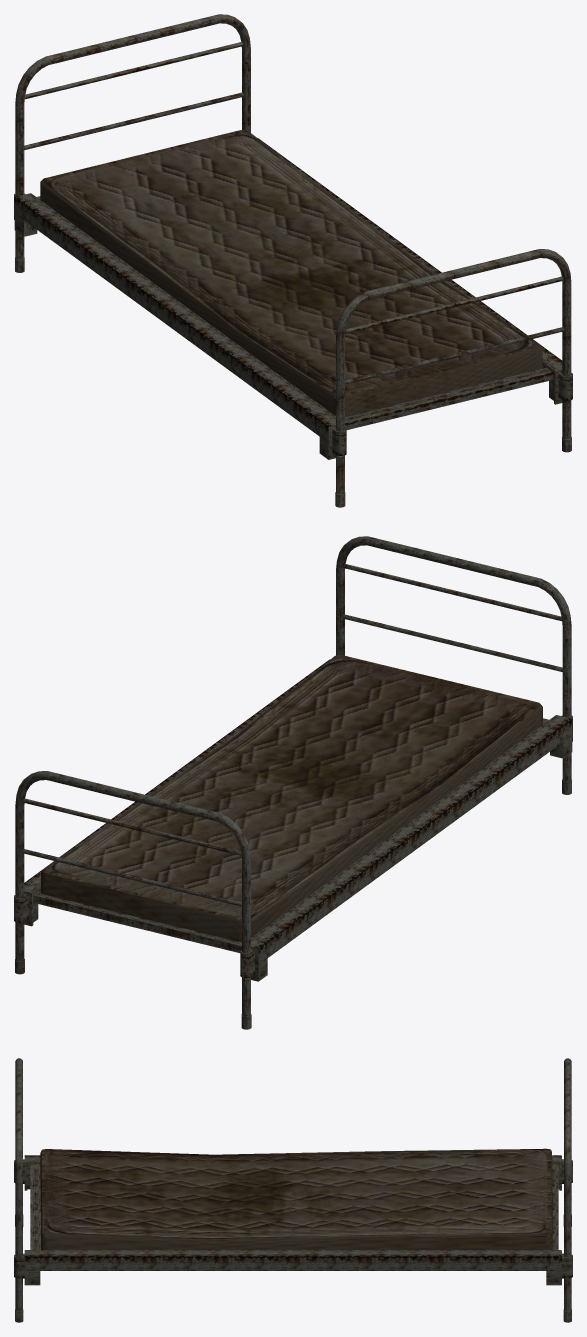
File: Prop_Bed_Small.fbx
3 views of the same model, one above another, from view 1: azimuth 30°, elevation 25°; view 2: azimuth 150°, elevation 25°; view 3: azimuth 270°, elevation 25° (orthographic). The views are drawn at different scales.
Parts seen in each view (by area): view 1: Cylinder_036; view 2: Cylinder_036; view 3: Cylinder_036.
Boxes of the visible parts, left/top/right/bottom form: Cylinder_036: left=14, top=14, right=572, bottom=507; Cylinder_036: left=14, top=536, right=572, bottom=1029; Cylinder_036: left=14, top=1058, right=572, bottom=1322.
Size of the model in its own units: 7.25 by 5.92 by 16.89.
